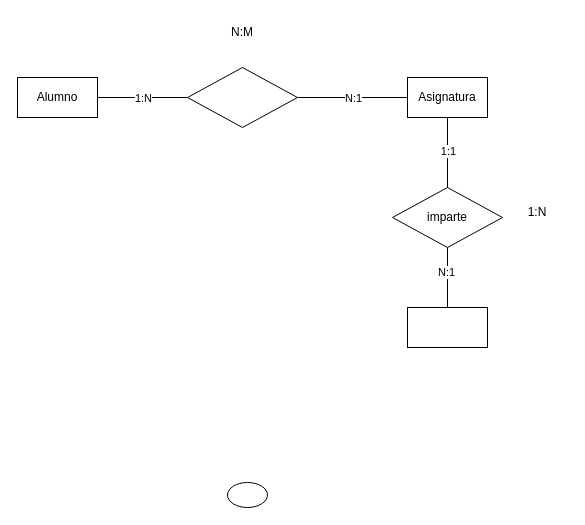
Some shapes in this 585 by 525 pixel diagram are drawn without their labels. The box of each missing label's shape, as (x1, y1, x2, y2) in pixels:
Profesor: (406, 306, 488, 348)
se matriula: (186, 66, 298, 128)
